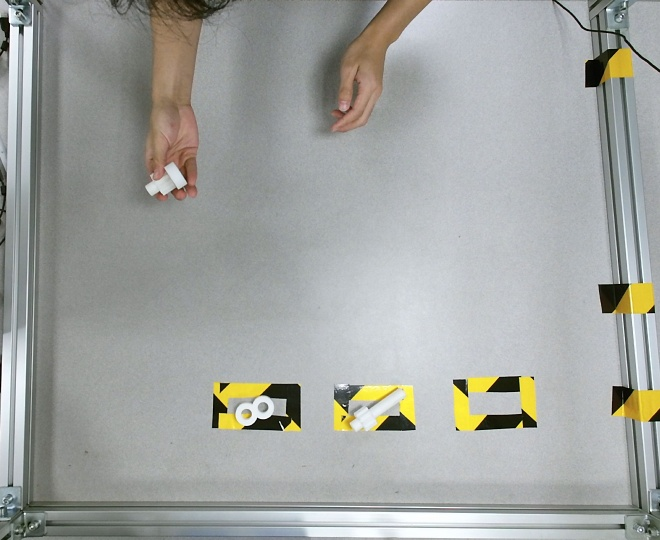stage_2: (144, 163, 186, 197)
